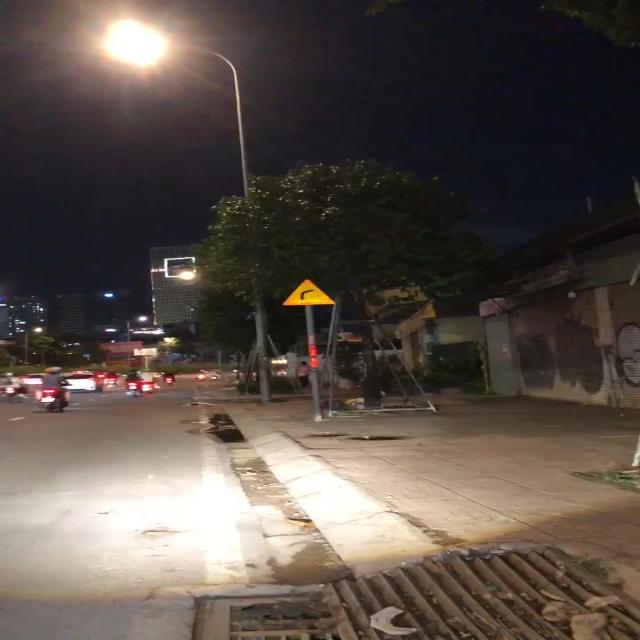Bien bao cho ngoat nguy hiem: (280, 275, 338, 307)
